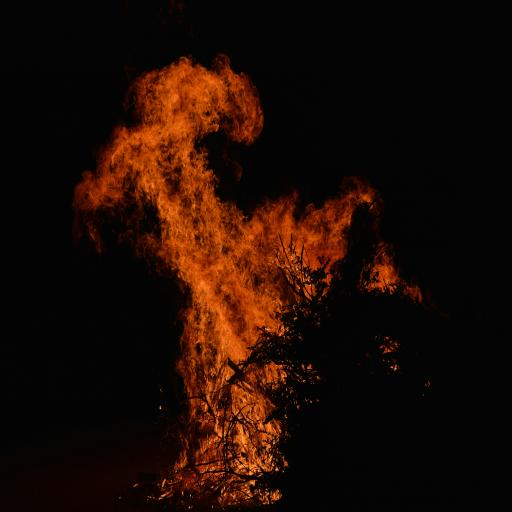wildfire: (42, 39, 466, 508)
